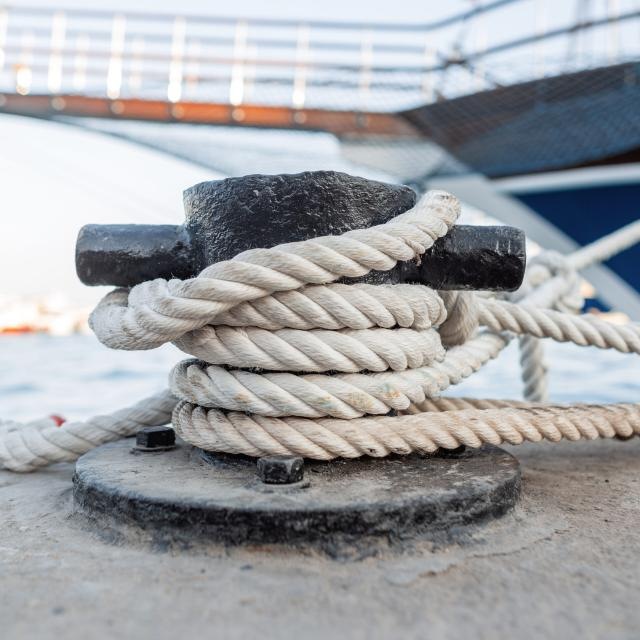Rope: (58, 168, 640, 467)
